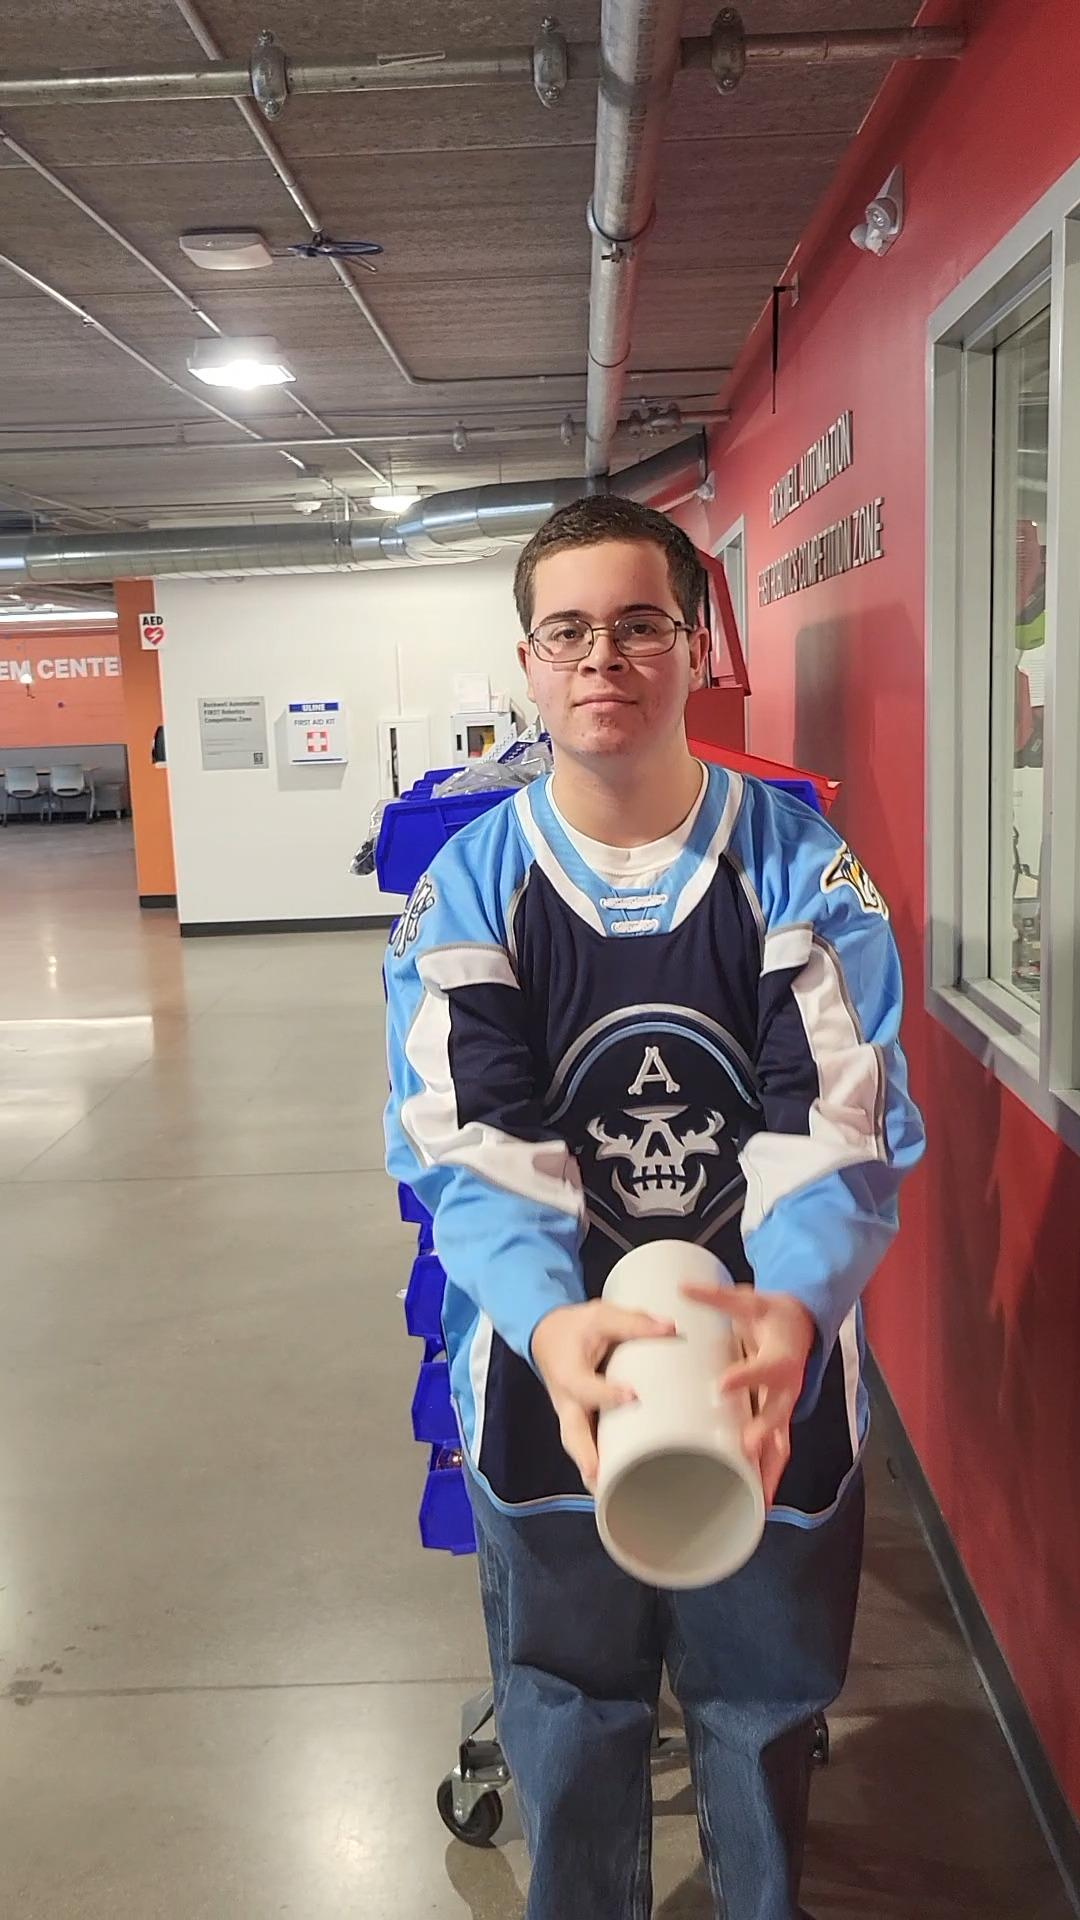coral: (600, 1228, 781, 1586)
